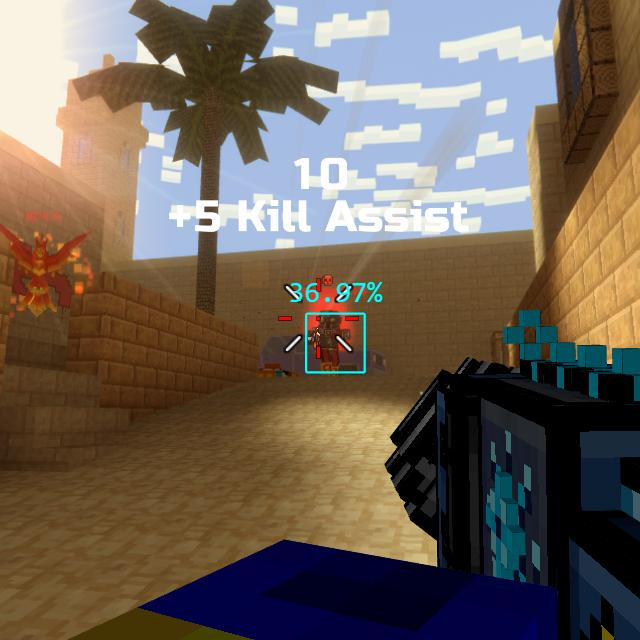Enemy: (307, 310, 350, 376)
